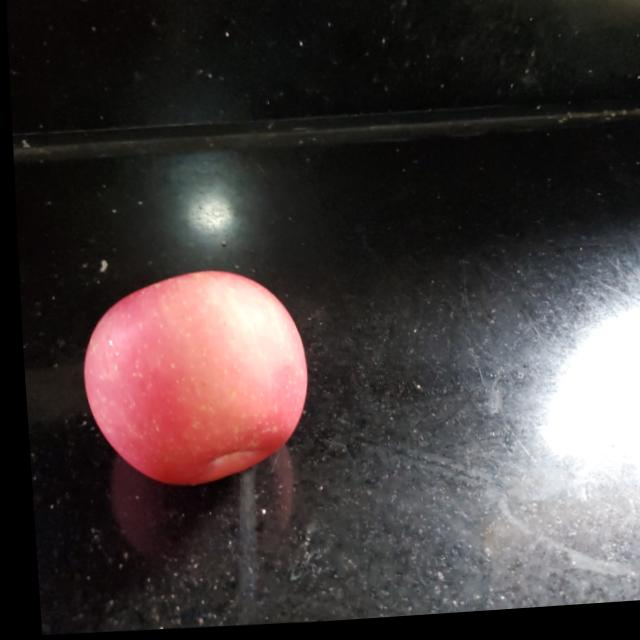apple: (68, 270, 306, 497)
